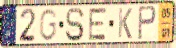2: (19, 8, 37, 44)
E: (87, 6, 109, 42)
G: (38, 7, 58, 42)
K: (117, 7, 134, 40)
P: (136, 5, 158, 42)
S: (65, 6, 86, 42)
